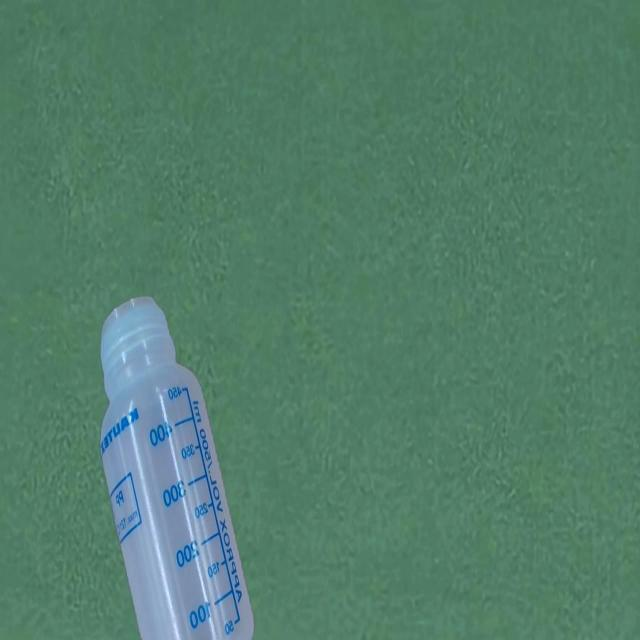bottle: (99, 292, 257, 640)
